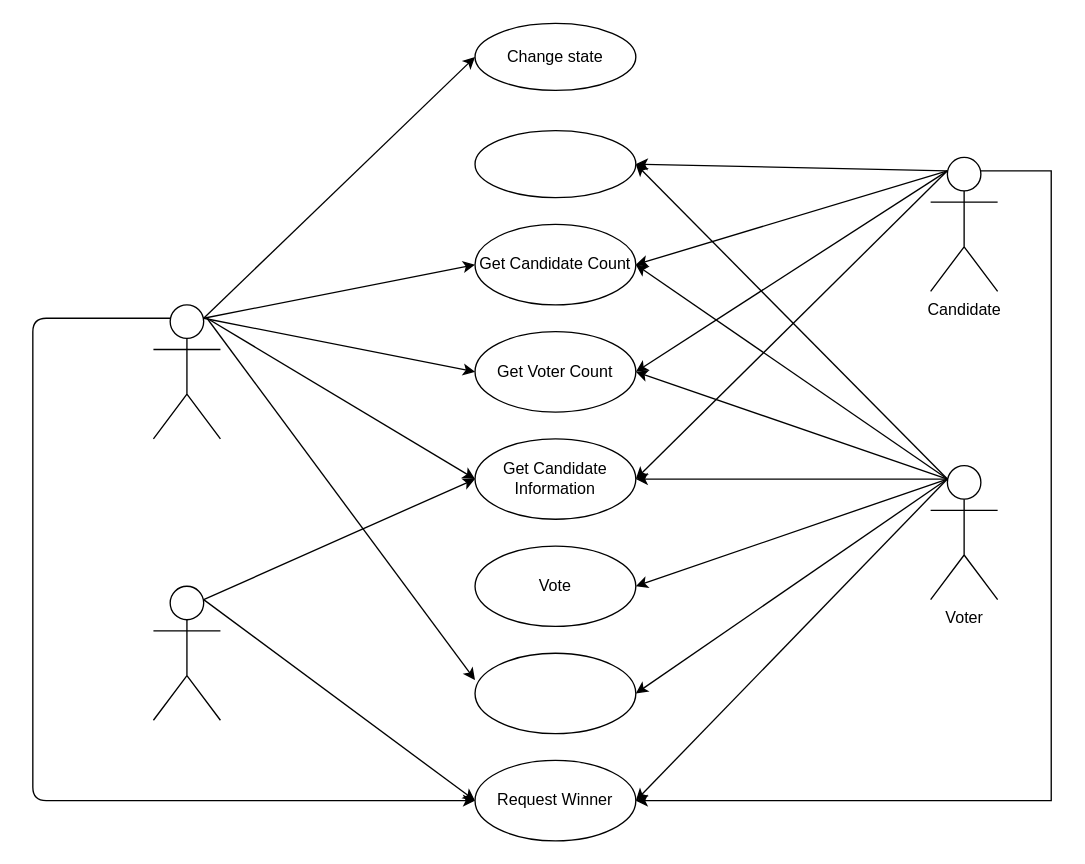
Image size: 1085x864. Some labels were removed from this diagram. The shapes that lost their labels are listed below. From the top down, each one's centre as x and y in pixels, then its label:
pixel 555 163: Register
pixel 186 371: Chairperson
pixel 186 652: Anybody
pixel 555 693: Change Vote
